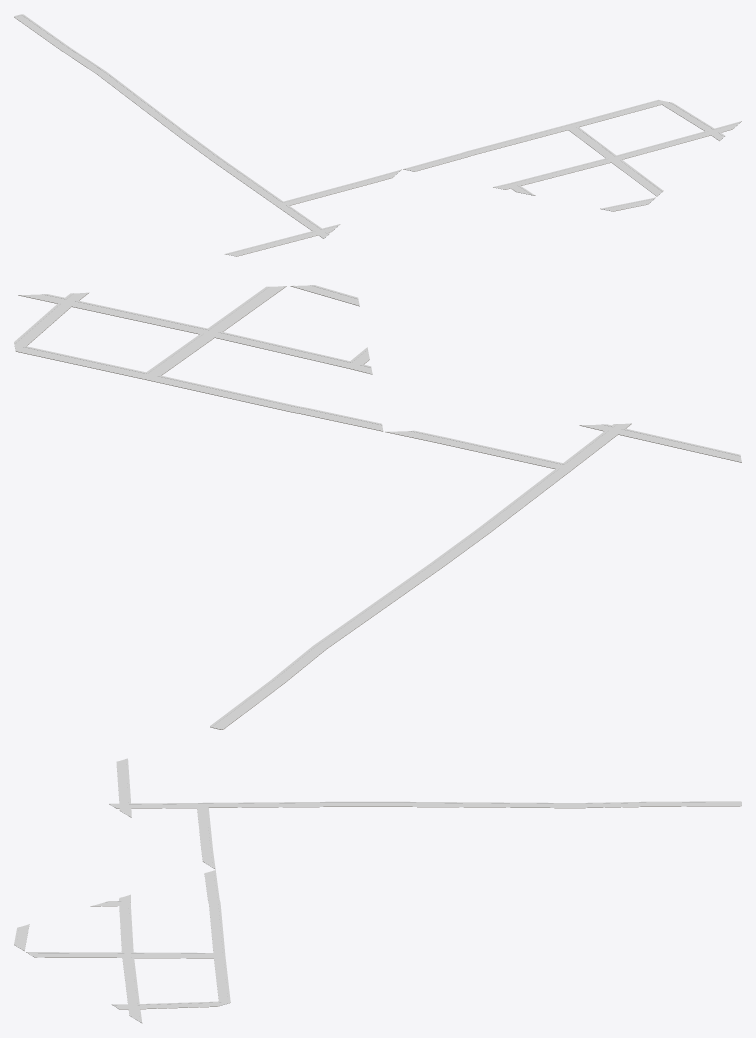
The picture shows the model from 3 angles, top to bottom: view 1: azimuth 30°, elevation 25°; view 2: azimuth 150°, elevation 25°; view 3: azimuth 270°, elevation 25°; orthographic projection. The views are drawn at different scales.
Parts seen in each view (by area): view 1: col_road, col_sidewalk, col_curb, sidewalk; view 2: col_road, col_sidewalk, col_curb, sidewalk; view 3: col_road, col_sidewalk, col_curb, sidewalk.
Part boxes in pixels (x1=…): col_road: x1=16, y1=15, x2=739, y2=255; col_sidewalk: x1=14, y1=14, x2=741, y2=256; col_curb: x1=16, y1=15, x2=739, y2=254; sidewalk: x1=14, y1=17, x2=741, y2=256; col_road: x1=14, y1=285, x2=741, y2=728; col_sidewalk: x1=14, y1=285, x2=741, y2=729; col_curb: x1=14, y1=285, x2=740, y2=727; sidewalk: x1=16, y1=286, x2=741, y2=729; col_road: x1=16, y1=759, x2=739, y2=1021; col_sidewalk: x1=14, y1=758, x2=741, y2=1022; col_curb: x1=16, y1=759, x2=739, y2=1021; sidewalk: x1=14, y1=804, x2=740, y2=1022.
Bounding box in the file's own units: 601 × 0.32 × 698.
